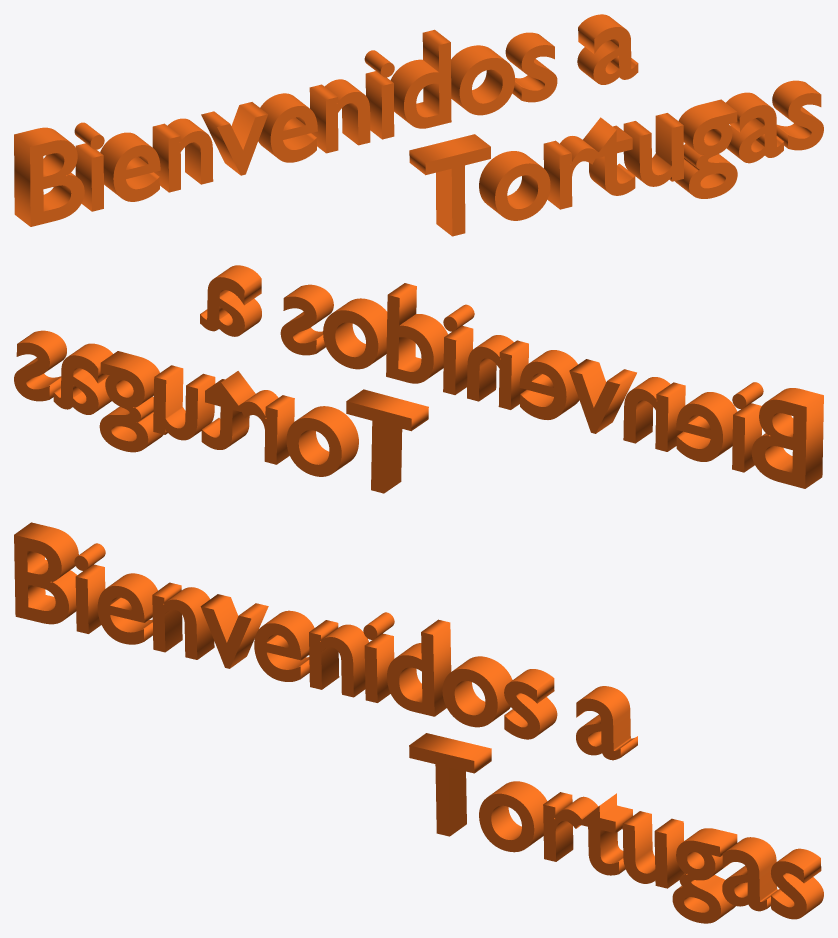
The model's file is letras11.obj.
The picture shows the model from 3 angles, top to bottom: view 1: azimuth 30°, elevation 25°; view 2: azimuth 150°, elevation 25°; view 3: azimuth 330°, elevation 25°; orthographic projection.
Visible parts, largest first — view 1: Text; view 2: Text; view 3: Text.
Part boxes in pixels (left/top/right/bottom): Text: left=14, top=14, right=823, bottom=236; Text: left=14, top=265, right=823, bottom=493; Text: left=14, top=522, right=823, bottom=923.
Bounding box in the file's own units: 6.17 × 1.64 × 0.3207.
